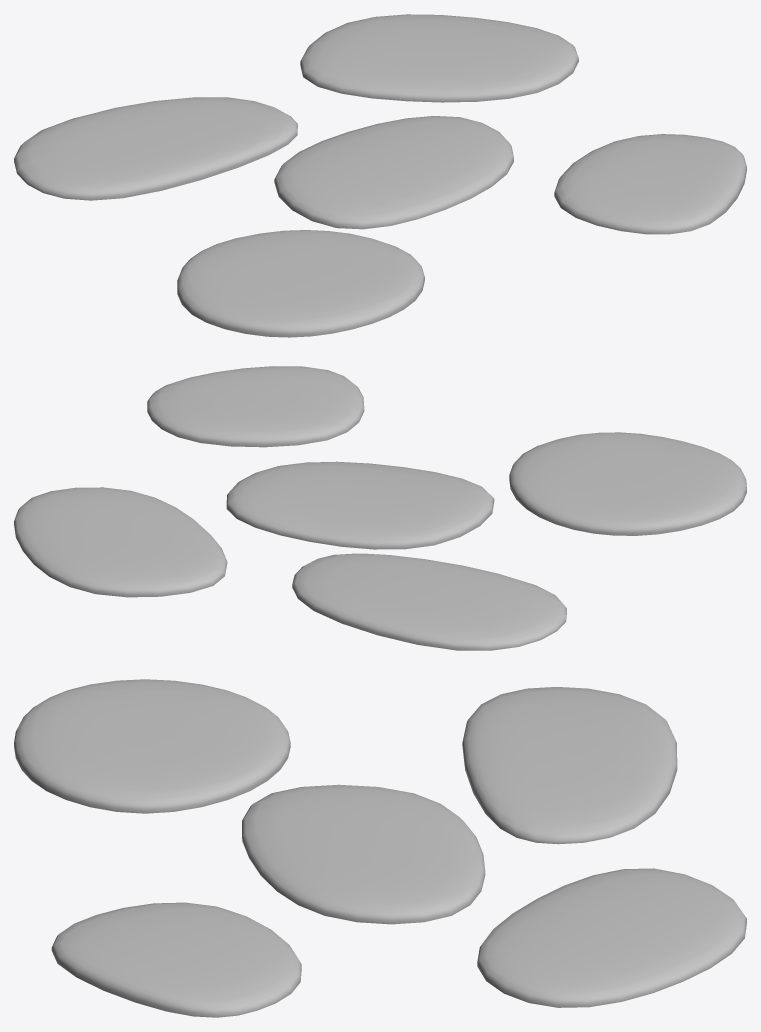
File: Town_10_Path_2.glb
3 views of the same model, one above another, from view 1: azimuth 30°, elevation 25°; view 2: azimuth 150°, elevation 25°; view 3: azimuth 270°, elevation 25° (orthographic). The views are drawn at different scales.
Visible parts, largest first — view 1: Town_10_Path_2; view 2: Town_10_Path_2; view 3: Town_10_Path_2.
Boxes of the visible parts, bbox=[...] form: Town_10_Path_2: bbox=[14, 14, 746, 337]; Town_10_Path_2: bbox=[14, 366, 746, 650]; Town_10_Path_2: bbox=[14, 679, 746, 1017].
Bounding box in the file's own units: 1.8 × 0.039 × 1.69.
Materials: 1 (1 with a texture image).
